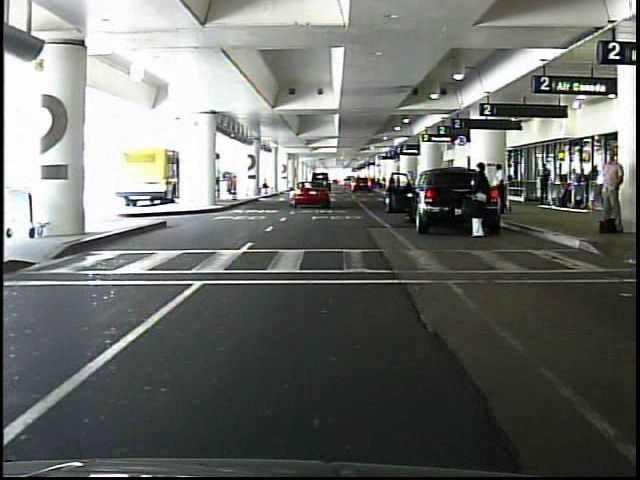person: (467, 163, 492, 242), (489, 162, 509, 217), (537, 162, 550, 204)
